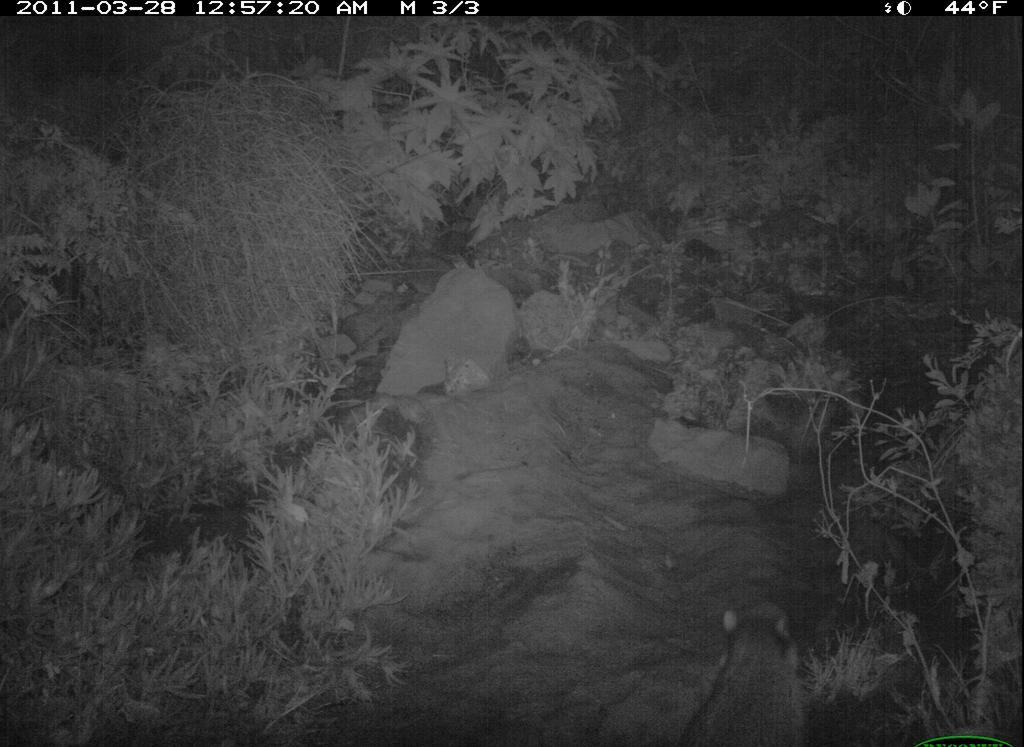raccoon: (655, 587, 825, 745)
